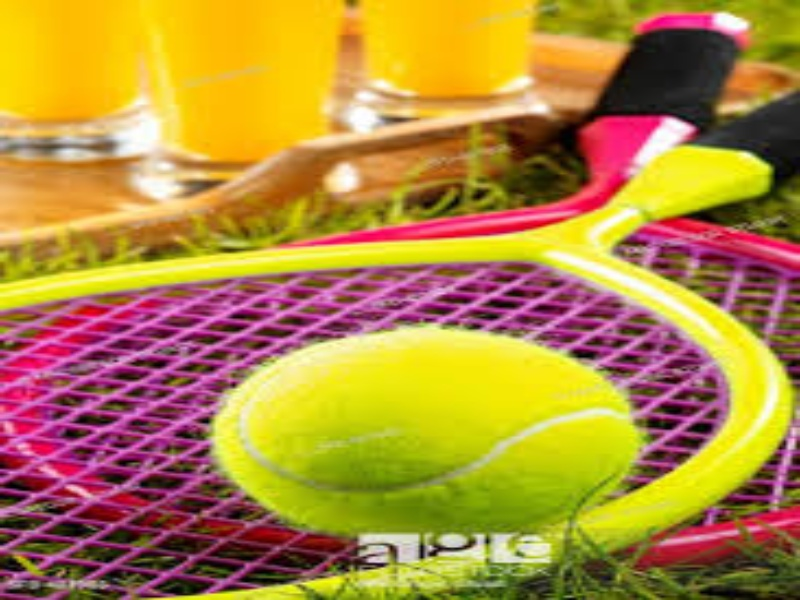tennis ball: (200, 320, 669, 534)
